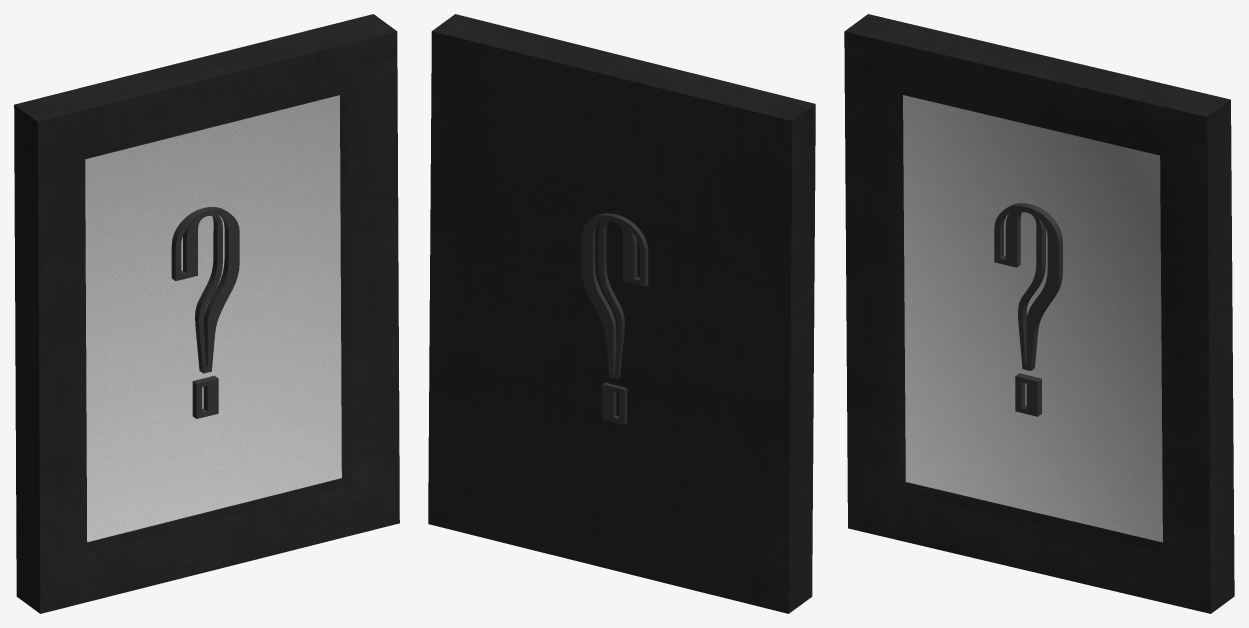
File: Gakubutimdl_2.fbx
The picture shows the model from 3 angles, left to right: view 1: azimuth 30°, elevation 25°; view 2: azimuth 150°, elevation 25°; view 3: azimuth 330°, elevation 25°; orthographic projection.
Parts seen in each view (by area): view 1: Gaku2; view 2: Gaku2; view 3: Gaku2.
Part boxes in pixels (<box>): Gaku2: <box>14,14,399,613</box>; Gaku2: <box>428,14,815,613</box>; Gaku2: <box>844,14,1234,613</box>.
Bounding box in the file's own units: 62.12 × 81.04 × 7.98.
